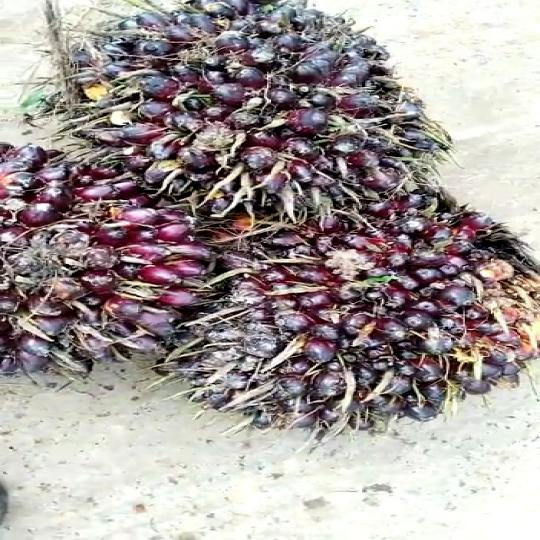kurang masak: (160, 189, 540, 436), (13, 0, 463, 205), (0, 141, 220, 363)
